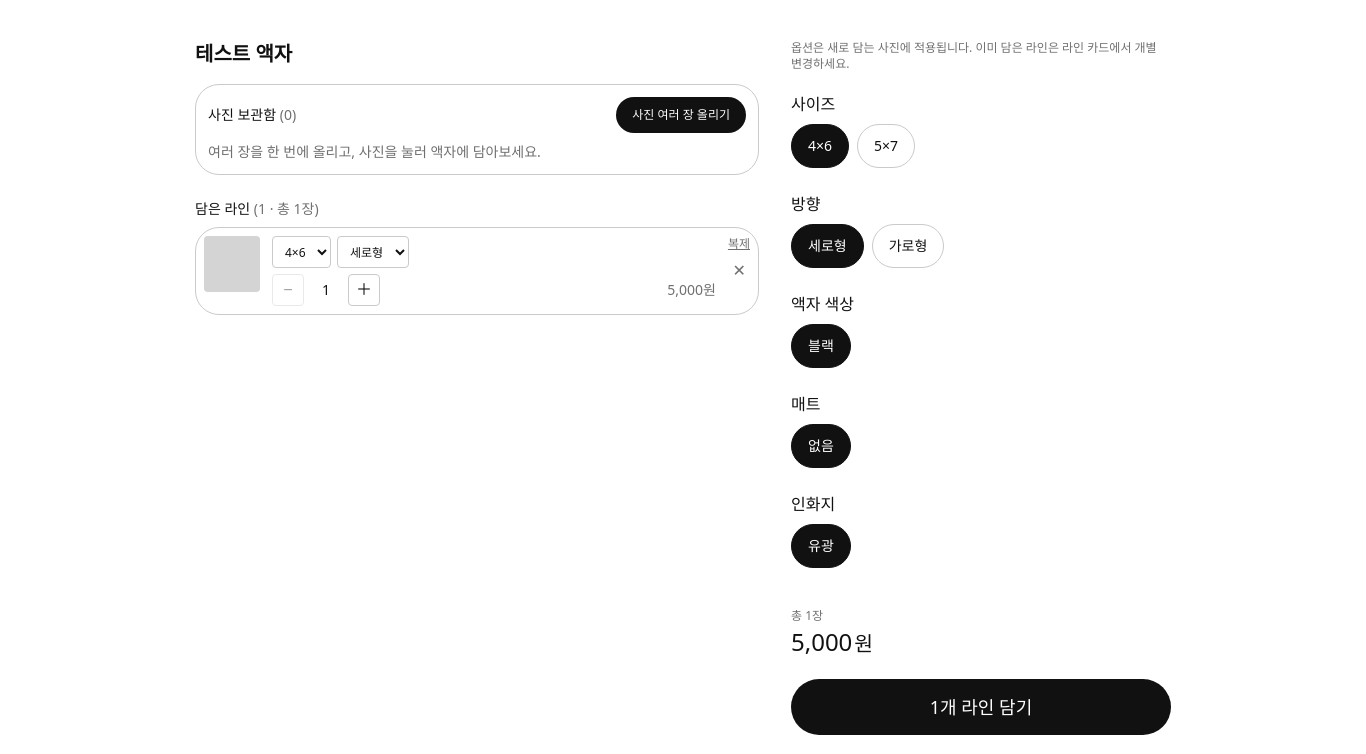
Test: StudioClient — 재크롭 필요 라인 담기 차단 (P1-002) › 기하를 베이크 값으로 되돌리면 차단 해제
This screenshot has width=1366, height=754.
Step 1. Select "5×7" in the dropdown with test id "line-size-select" → (302, 252), box [272,236,331,268]
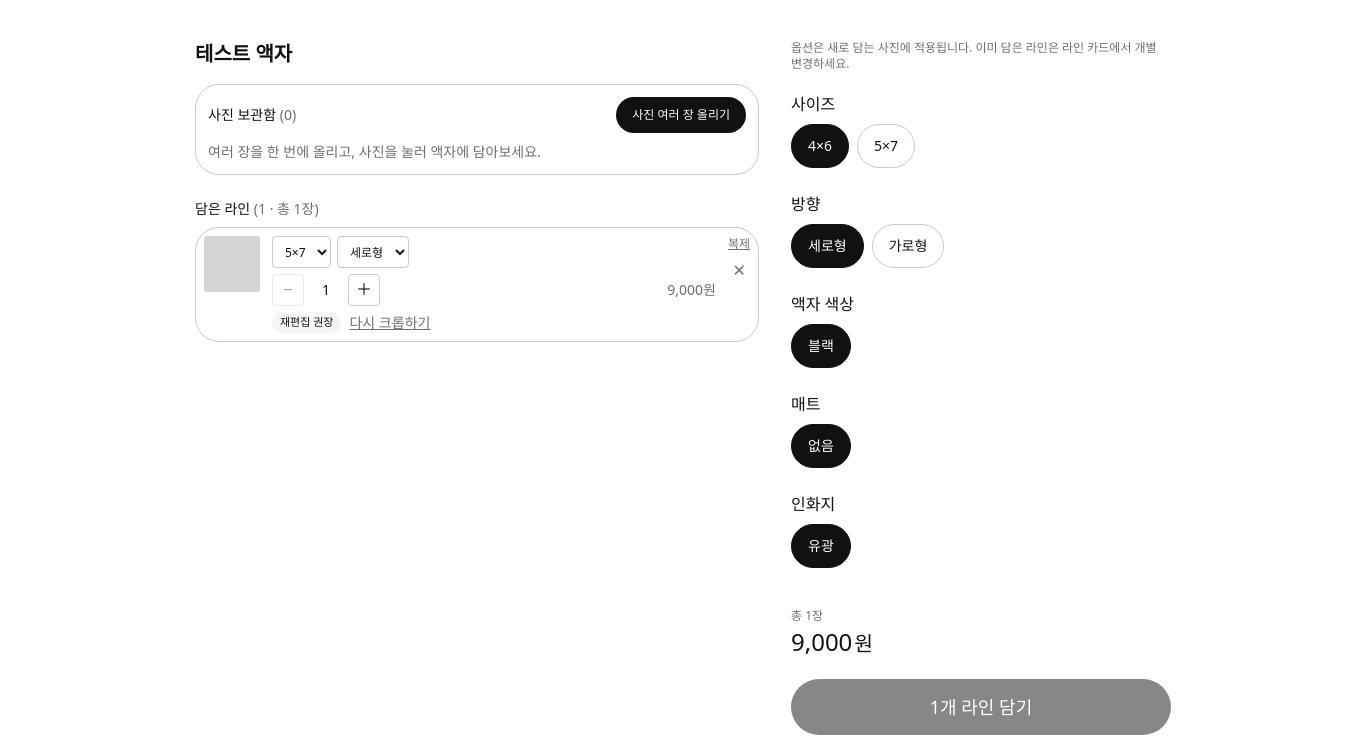
Check: the button with test id "multi-checkout" is disabled, box [791,679,1171,735]
Step 2. Select "4×6" in the dropdown with test id "line-size-select" → (302, 252), box [272,236,331,268]
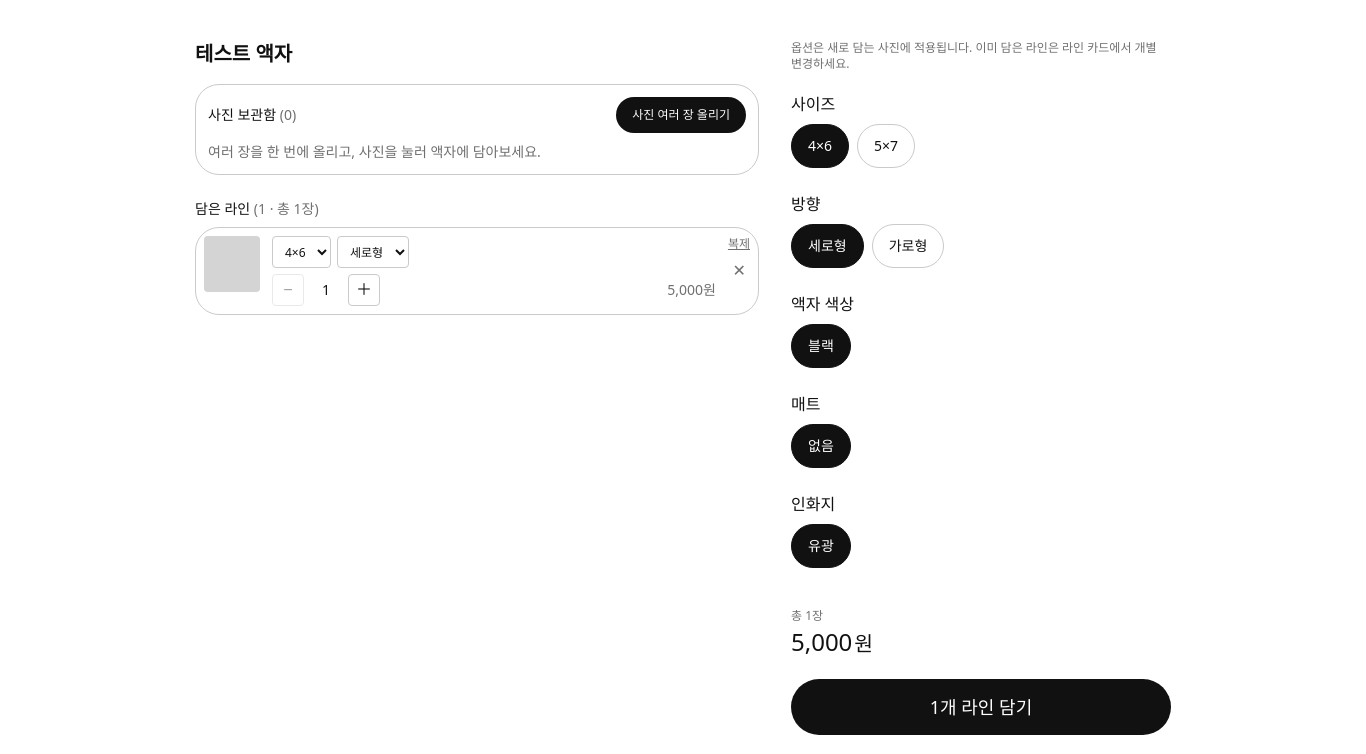
Check: the element with test id "recrop-badge" is gone
Check: the button with test id "multi-checkout" is enabled, box [791,679,1171,735]
